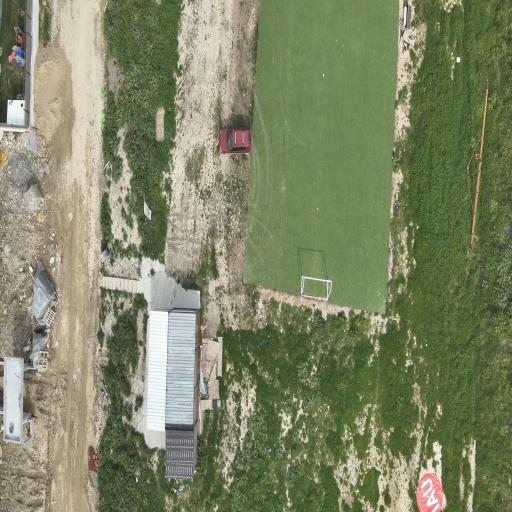UAI: (417, 473, 443, 511)
car: (220, 127, 252, 152)
